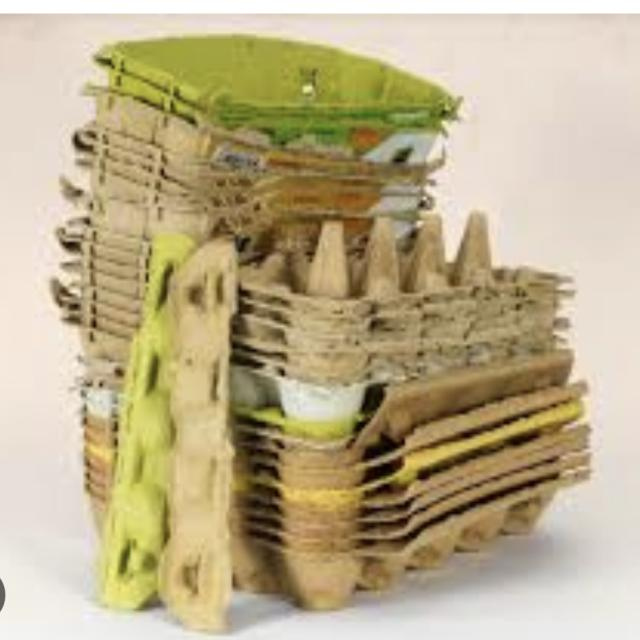biodegradable: (200, 177, 606, 600)
